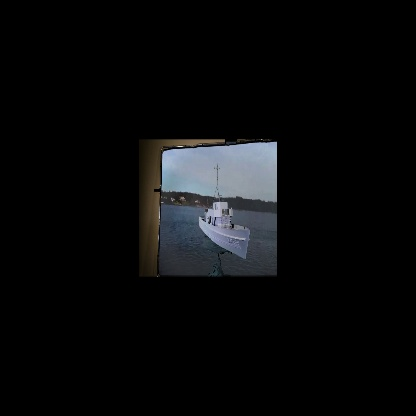YP689: (198, 162, 251, 260)
